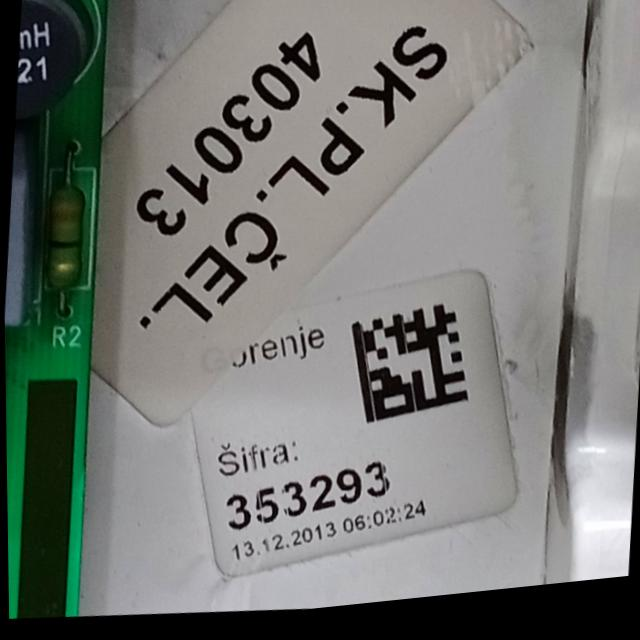datamatrix: (344, 305, 474, 439)
